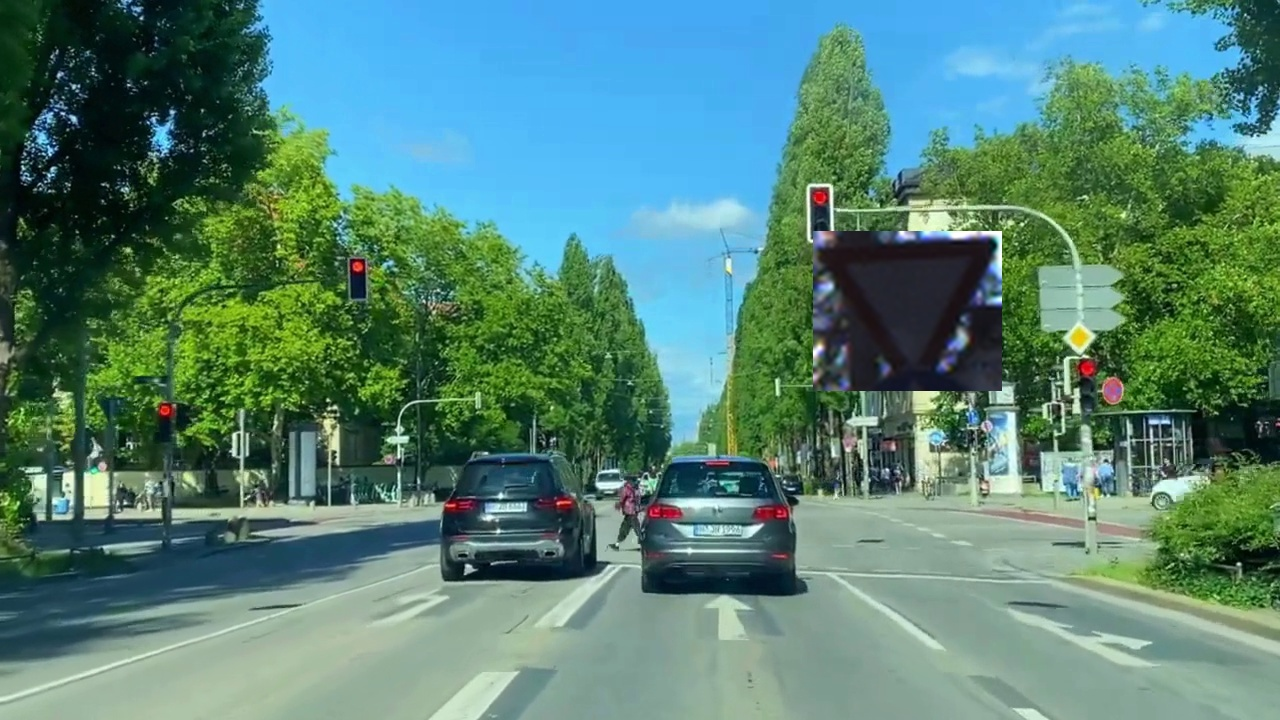Yield: (813, 231, 1002, 391)
